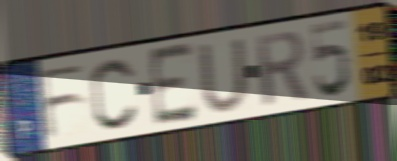5: (309, 16, 353, 101)
C: (89, 55, 141, 132)
E: (146, 39, 199, 131)
F: (36, 61, 89, 143)
R: (252, 28, 310, 109)
U: (196, 35, 252, 115)
